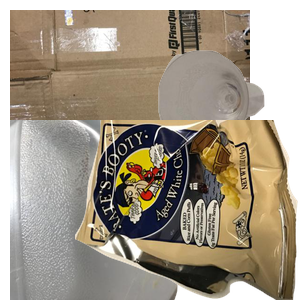cardboard: (10, 10, 250, 190)
glass: (156, 48, 300, 189)
plastic: (10, 120, 190, 300)
trash: (75, 120, 300, 300)
